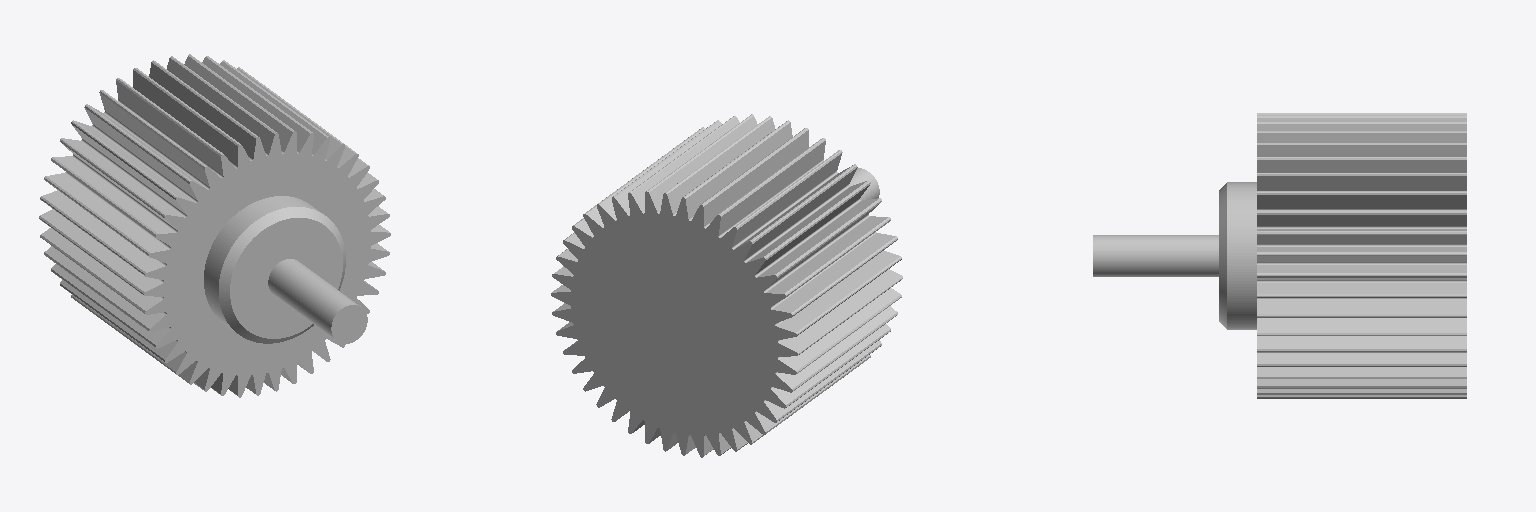
The model's file is Planet gear.obj.
The picture shows the model from 3 angles: view 1: azimuth 30°, elevation 25°; view 2: azimuth 150°, elevation 25°; view 3: azimuth 270°, elevation 25°; orthographic projection.
Parts seen in each view (by area): view 1: mesh5, mesh2, mesh1, mesh3, mesh4, mesh126, mesh104, mesh107, mesh123, mesh129, mesh101, mesh131 (+14 smaller); view 2: mesh7, mesh126, mesh104, mesh107, mesh123, mesh129, mesh101, mesh131, mesh98, mesh110, mesh120, mesh9 (+9 smaller); view 3: mesh1, mesh4, mesh17, mesh39, mesh20, mesh36, mesh14, mesh42, mesh11, mesh23, mesh33, mesh45 (+15 smaller).
Part boxes in pixels (bbox=[...]): mesh5: bbox=[144, 131, 390, 397]; mesh2: bbox=[230, 218, 342, 338]; mesh1: bbox=[268, 259, 360, 339]; mesh3: bbox=[219, 207, 345, 343]; mesh4: bbox=[204, 196, 322, 330]; mesh126: bbox=[133, 70, 237, 165]; mesh104: bbox=[42, 190, 164, 272]; mesh107: bbox=[46, 173, 169, 252]; mesh123: bbox=[116, 81, 222, 174]; mesh129: bbox=[149, 62, 255, 158]; mesh101: bbox=[40, 209, 162, 291]; mesh131: bbox=[167, 58, 274, 154]; mesh7: bbox=[551, 191, 797, 457]; mesh126: bbox=[704, 130, 808, 225]; mesh104: bbox=[777, 251, 899, 332]; mesh107: bbox=[772, 233, 895, 312]; mesh123: bbox=[719, 141, 825, 234]; mesh129: bbox=[686, 122, 792, 218]; mesh101: bbox=[779, 269, 901, 351]; mesh131: bbox=[667, 118, 774, 214]; mesh98: bbox=[778, 288, 900, 370]; mesh110: bbox=[767, 216, 887, 293]; mesh120: bbox=[732, 153, 841, 246]; mesh9: bbox=[649, 116, 757, 212]; mesh1: bbox=[1093, 235, 1218, 276]; mesh4: bbox=[1227, 182, 1256, 329]; mesh17: bbox=[1257, 176, 1466, 190]; mesh39: bbox=[1257, 318, 1466, 332]; mesh20: bbox=[1257, 195, 1466, 208]; mesh36: bbox=[1257, 300, 1466, 313]; mesh14: bbox=[1257, 160, 1466, 172]; mesh42: bbox=[1257, 336, 1466, 348]; mesh11: bbox=[1257, 145, 1466, 156]; mesh23: bbox=[1257, 215, 1466, 225]; mesh33: bbox=[1257, 283, 1466, 293]; mesh45: bbox=[1257, 353, 1466, 363].
Size of the model in its own units: 0.034 by 0.0339 by 0.0445.